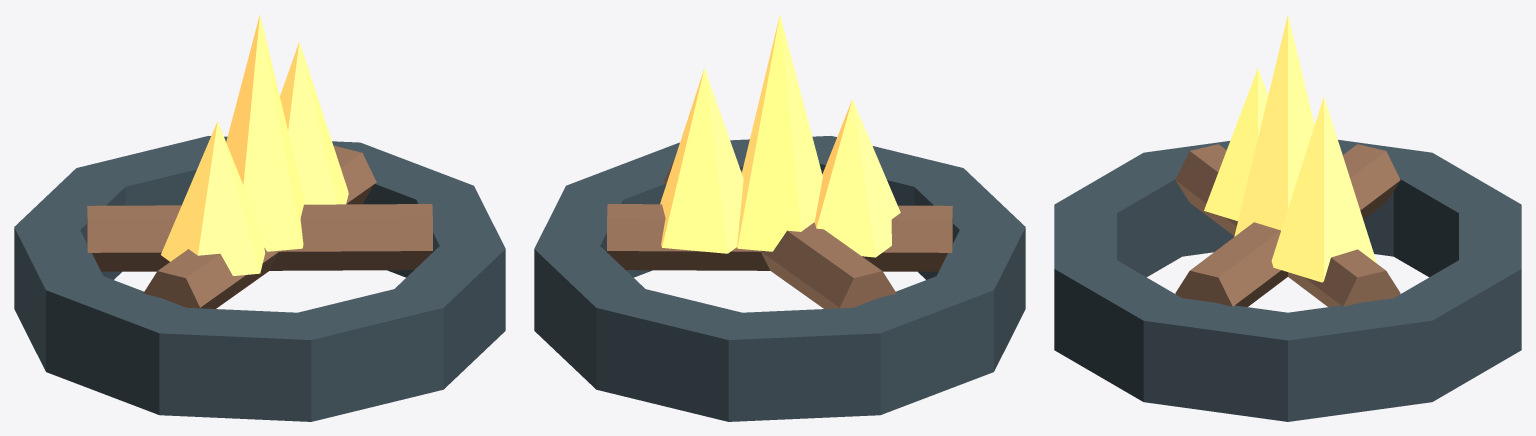
File: firepit.glb
3 views of the same model, side by side, from view 1: azimuth 30°, elevation 25°; view 2: azimuth 150°, elevation 25°; view 3: azimuth 270°, elevation 25° (orthographic).
Visible parts, largest first — view 1: warming-firepit-iron, warming-firepit-amber, warming-firepit-wood; view 2: warming-firepit-iron, warming-firepit-amber, warming-firepit-wood; view 3: warming-firepit-iron, warming-firepit-amber, warming-firepit-wood.
Part boxes in pixels (x1,y1,x2,y2): warming-firepit-iron: (14,136,505,421); warming-firepit-amber: (161,15,348,275); warming-firepit-wood: (87,145,432,308); warming-firepit-iron: (534,136,1025,421); warming-firepit-amber: (660,15,900,257); warming-firepit-wood: (607,159,952,308); warming-firepit-iron: (1054,139,1521,421); warming-firepit-amber: (1204,15,1376,282); warming-firepit-wood: (1175,144,1400,306).
Bounding box in the file's own units: 1.64 × 1.12 × 1.56.
